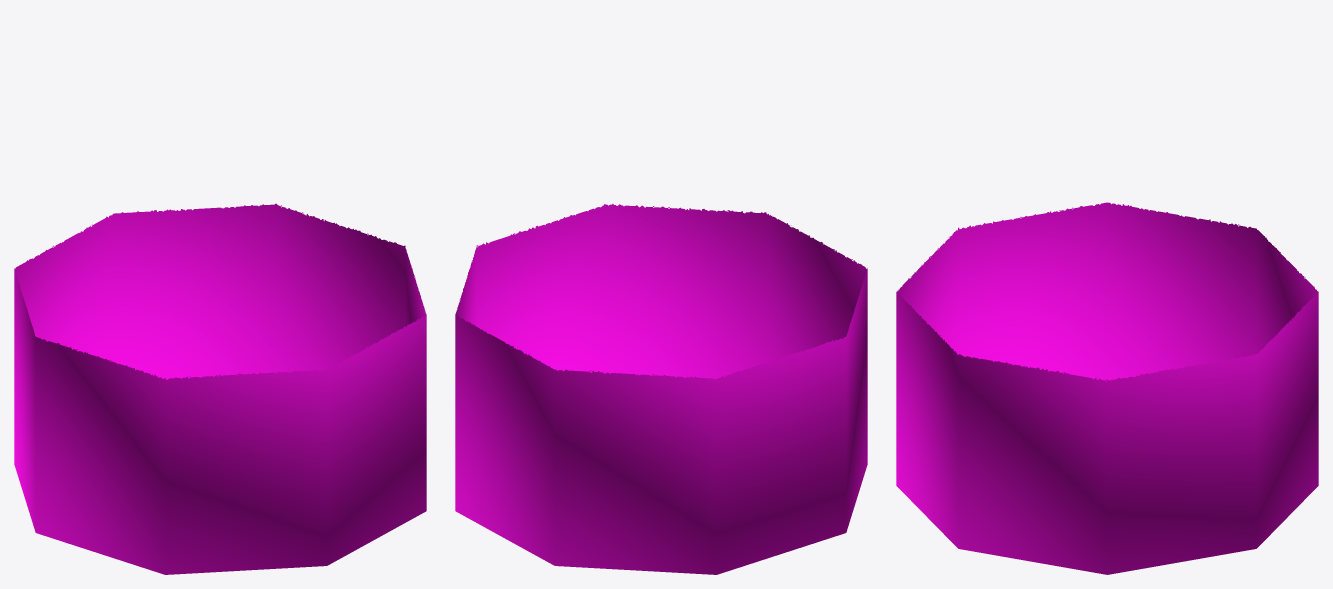
Rendered from portal_block_-_portal_inverted.obj.
The picture shows the model from 3 angles, left to right: view 1: azimuth 30°, elevation 25°; view 2: azimuth 150°, elevation 25°; view 3: azimuth 270°, elevation 25°; orthographic projection.
Visible parts, largest first — view 1: Portal_Effect_(Flipped_Normals); view 2: Portal_Effect_(Flipped_Normals); view 3: Portal_Effect_(Flipped_Normals).
Boxes of the visible parts, x1,y1,x2,y2 form: Portal_Effect_(Flipped_Normals): (14,203,426,574); Portal_Effect_(Flipped_Normals): (455,204,867,574); Portal_Effect_(Flipped_Normals): (896,202,1318,574).
Bounding box in the file's own units: 2 × 2 × 2.
Materials: 1 (1 with a texture image).
